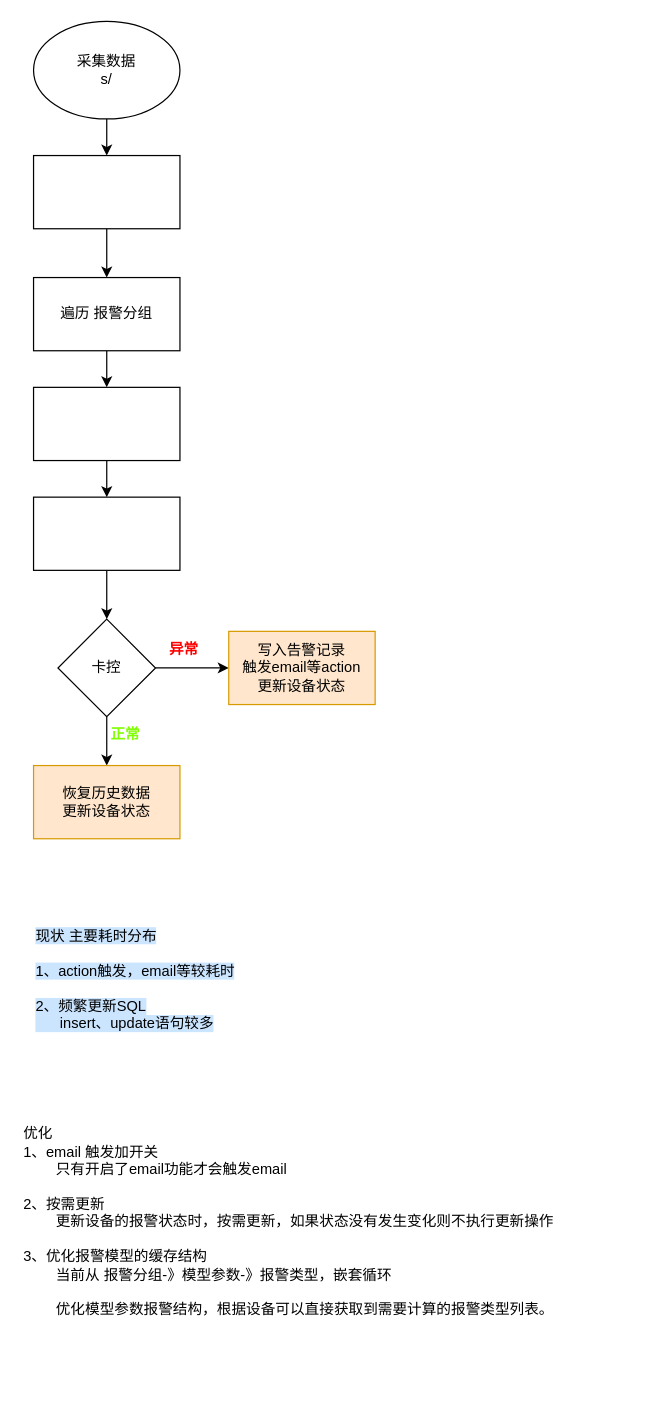
Some shapes in this 651 by 1427 pixel diagram are drawn without their labels. Each missing label, with the centre of its shape:
加入报警计算队列: point (106, 191)
遍历 报警类型 （ 绝对值、相对值、SPC等 ）: point (106, 533)
遍历 模型参数: point (106, 423)
